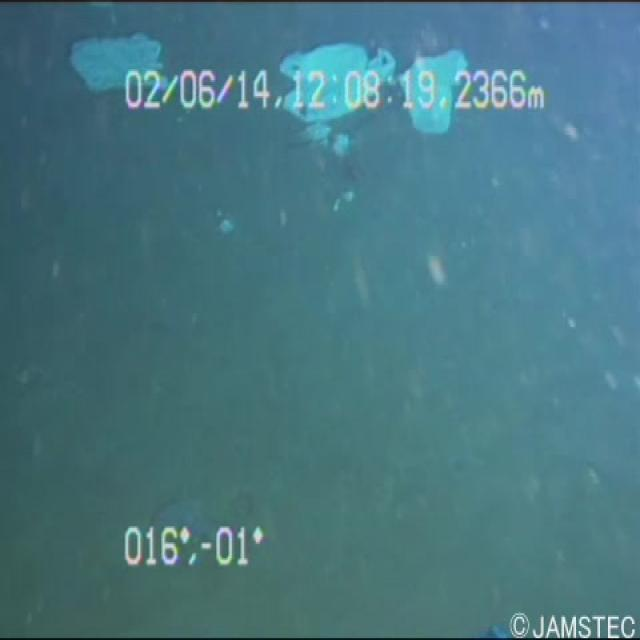plastic: (273, 25, 392, 149), (46, 19, 170, 98), (388, 42, 480, 146)
